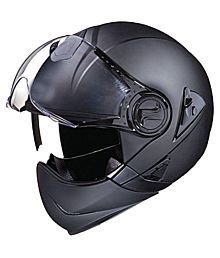with_helmet: (4, 17, 217, 237)
